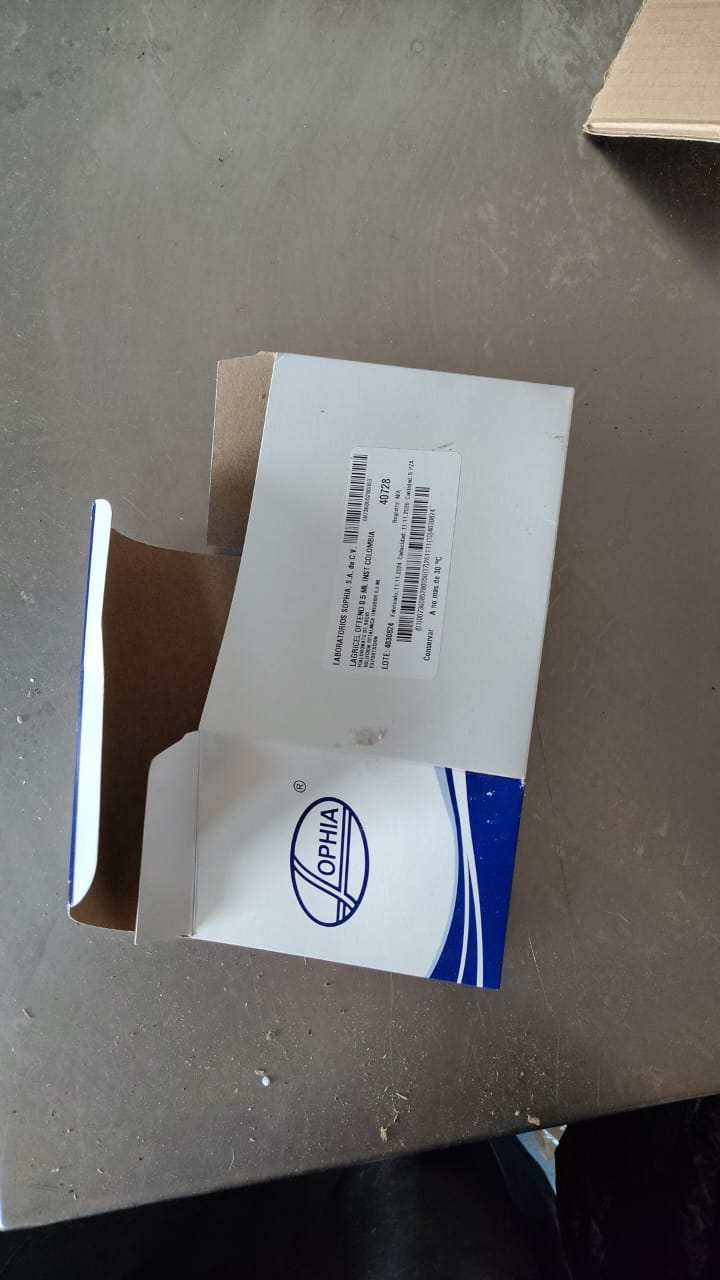Carton: (71, 352, 578, 987)
